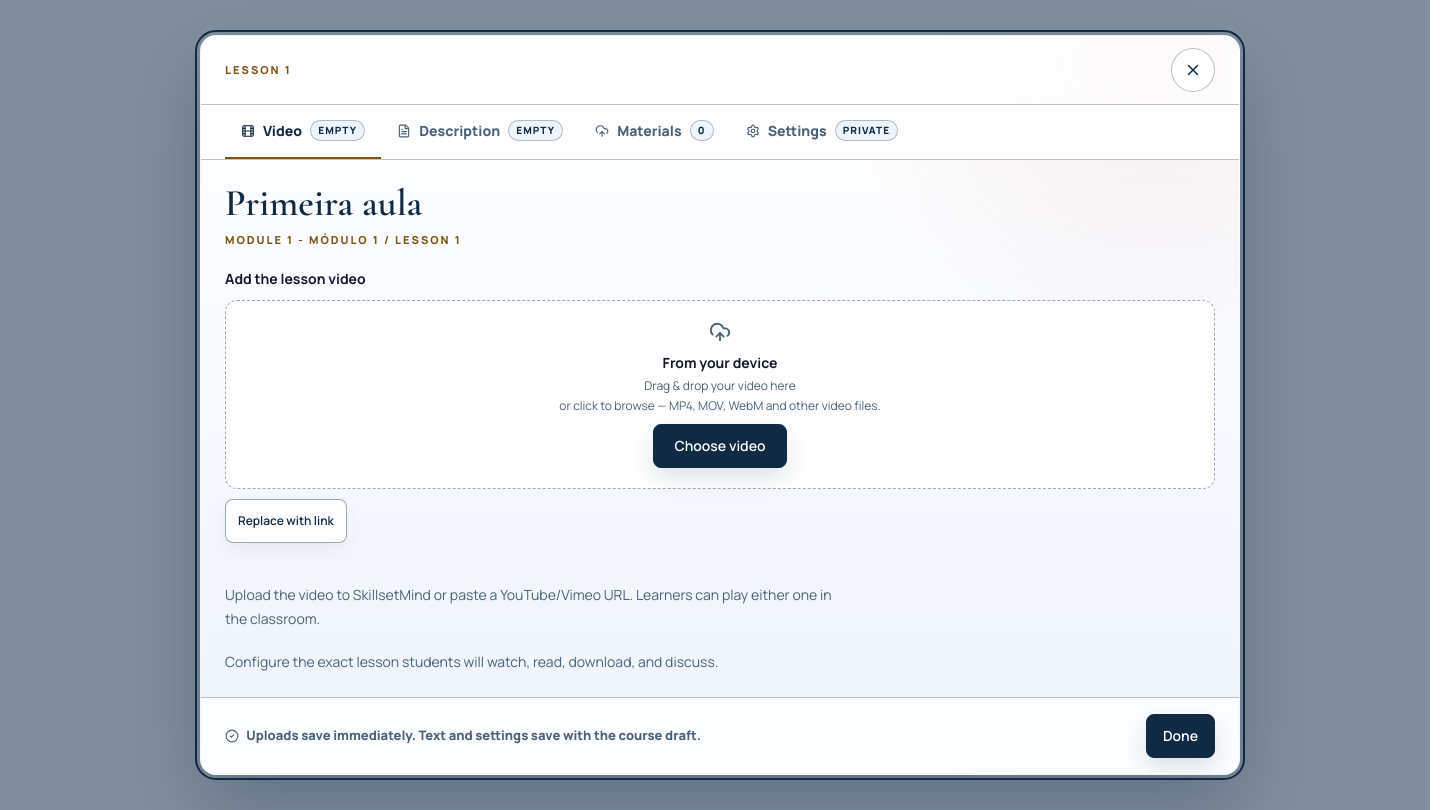
Test: LessonContentModal — dias de espera › mostra os dias de espera na liberacao por aula
Step 1. Click the button "Settings Private" → (822, 132), box [730,105,914,159]
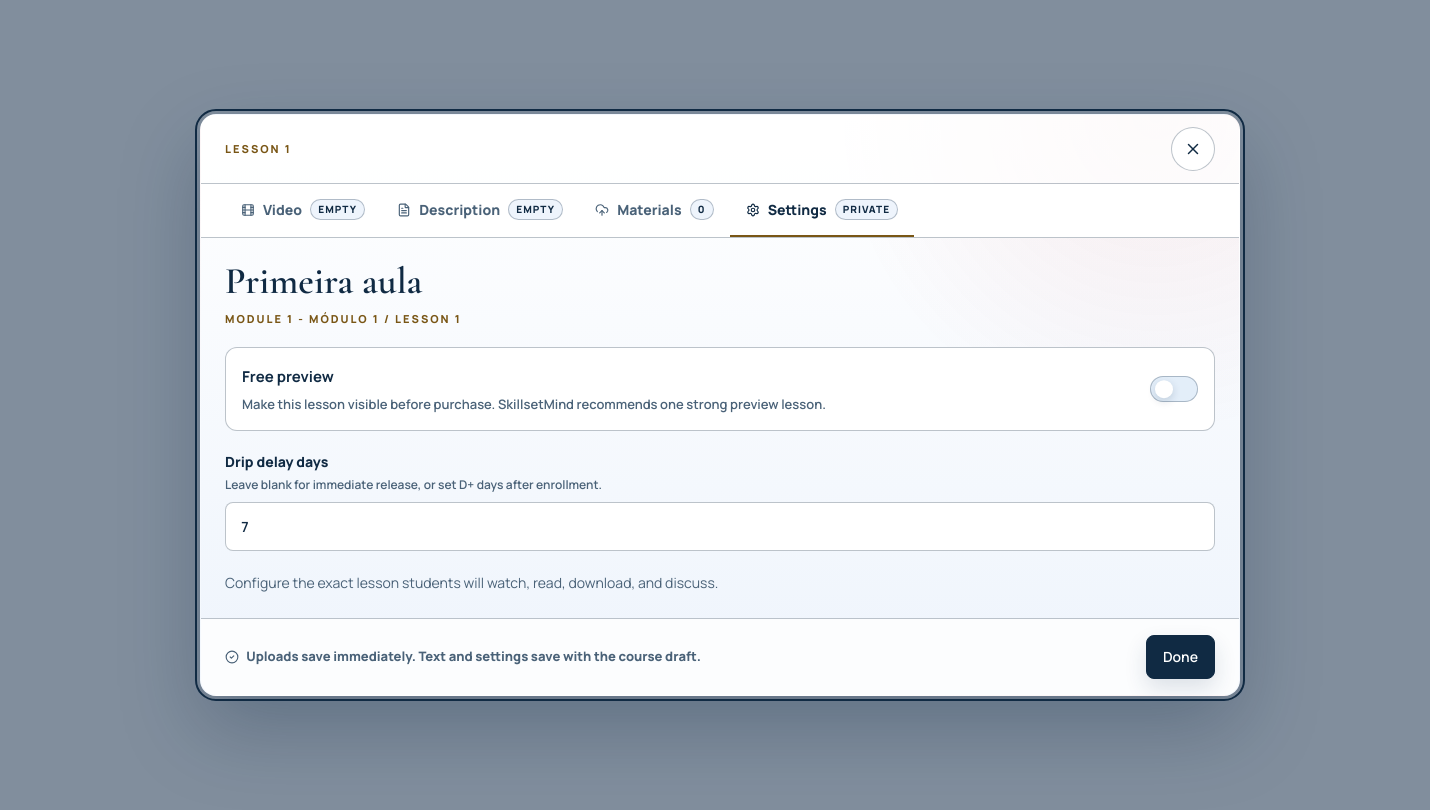
Expected: the field showing "7" is shown, [225,502,1215,551]
